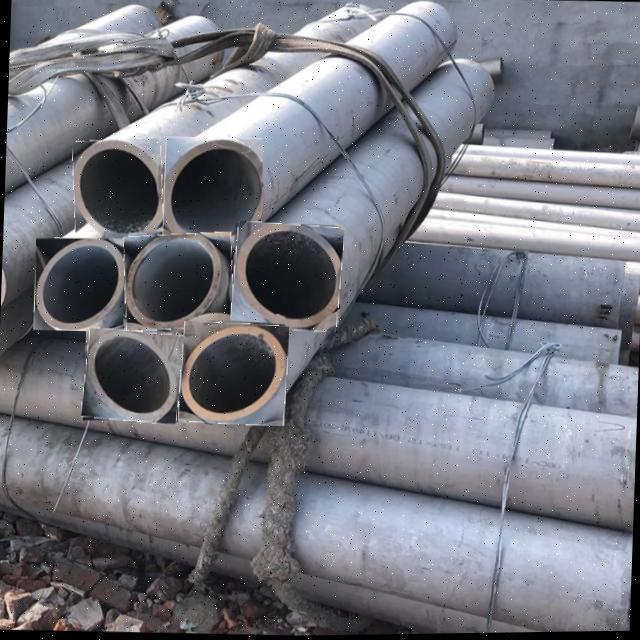pipe: (230, 222, 344, 333), (178, 321, 289, 426), (162, 137, 262, 250), (123, 233, 233, 331), (81, 327, 183, 424), (73, 138, 163, 240), (34, 238, 126, 331)
